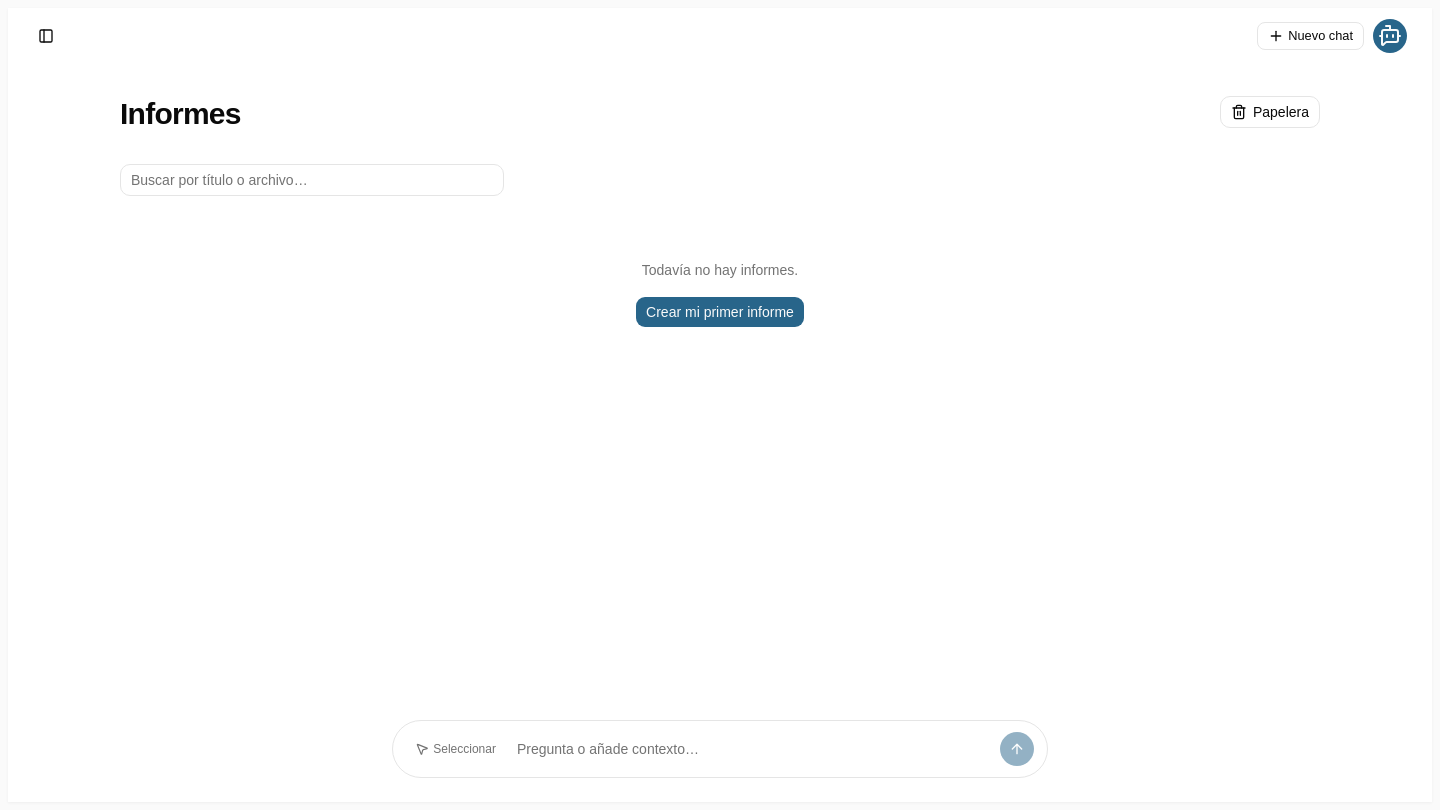
Test: starts the first report in the same editable conversation without requiring an upload
Click the link "Crear mi primer informe": (720, 312) x1=635 y1=296 x2=805 y2=328
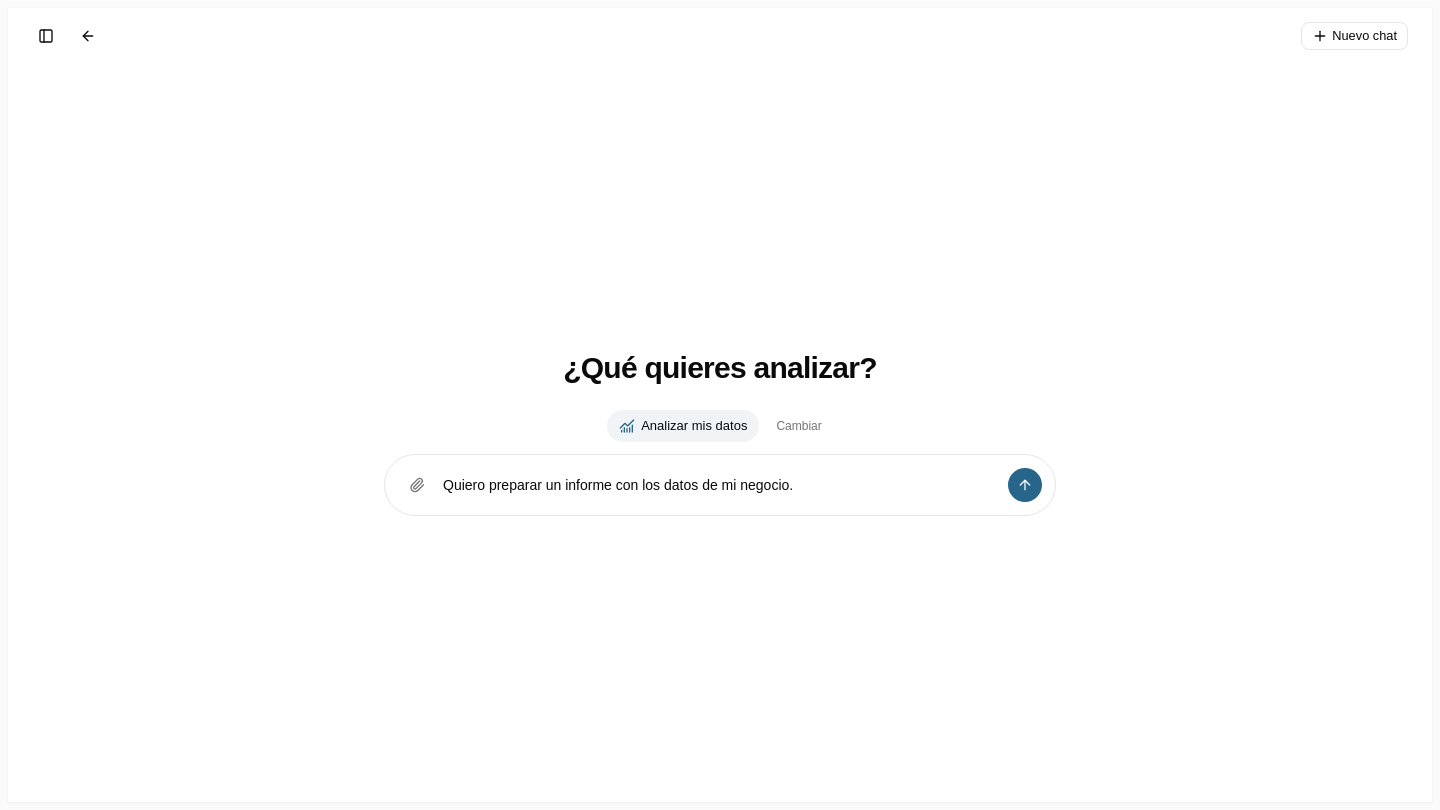
Expected: the number of text boxes named "Mensaje" is 1, x1=433 y1=465 x2=1007 y2=505
Expected: the heading "¿Qué quieres analizar?" is shown, x1=563 y1=351 x2=877 y2=384
Expected: the text box named "Mensaje" holds "Quiero preparar un informe con los datos de mi negocio. ", x1=433 y1=465 x2=1007 y2=505
